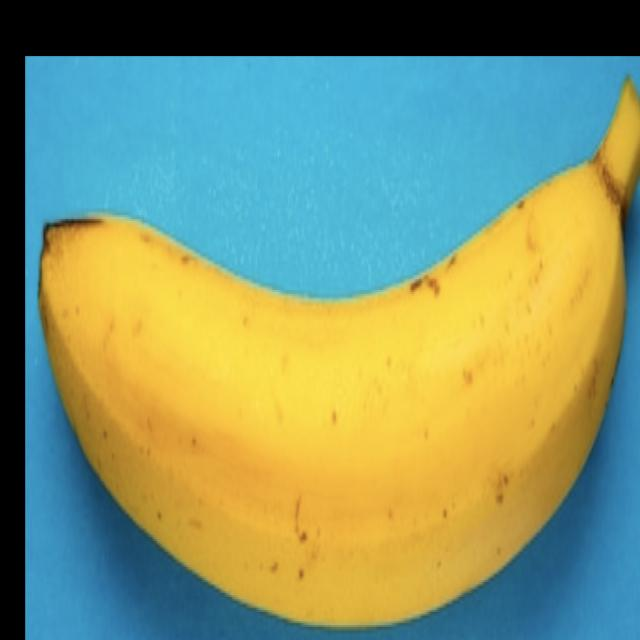Ripe: (37, 59, 640, 640)
